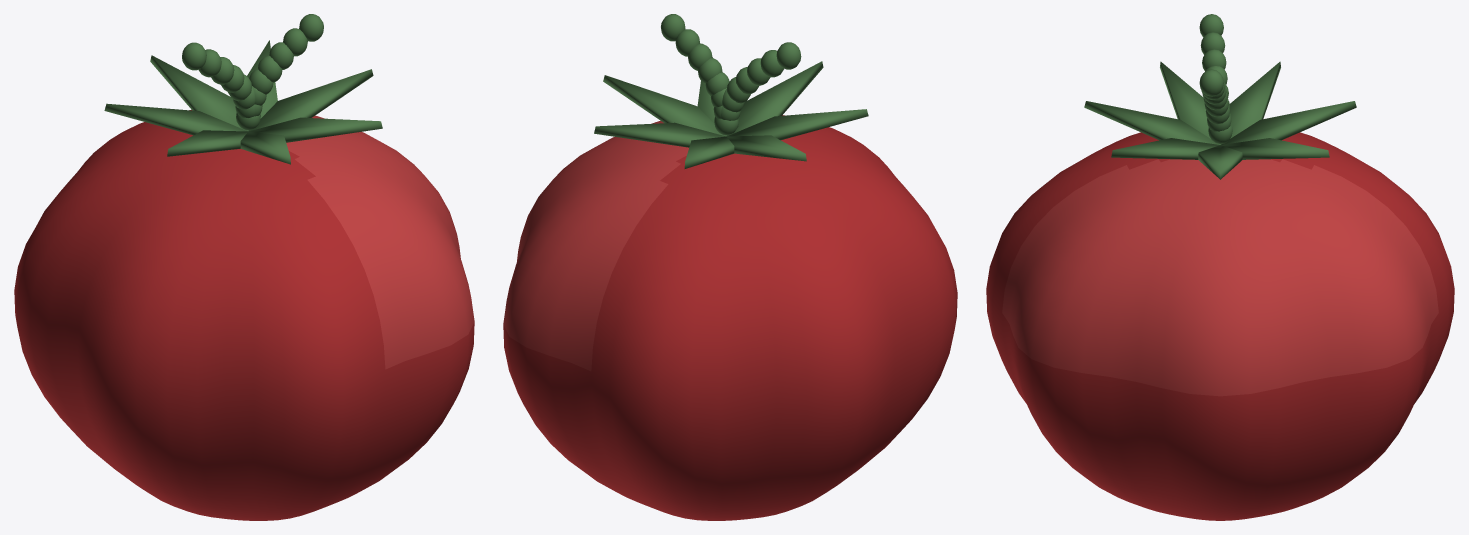
File: cocktail.glb
The picture shows the model from 3 angles, left to right: view 1: azimuth 30°, elevation 25°; view 2: azimuth 150°, elevation 25°; view 3: azimuth 270°, elevation 25°; orthographic projection. The views are drawn at different scales.
Parts seen in each view (by area): view 1: Cocktail Cocktail rose-red satin skin / Cocktail subtle sunw, Cocktail Cocktail forked vine green; view 2: Cocktail Cocktail rose-red satin skin / Cocktail subtle sunw, Cocktail Cocktail forked vine green; view 3: Cocktail Cocktail rose-red satin skin / Cocktail subtle sunw, Cocktail Cocktail forked vine green.
Boxes of the visible parts, left/top/right/bottom form: Cocktail Cocktail rose-red satin skin / Cocktail subtle sunw: left=14, top=110, right=474, bottom=520; Cocktail Cocktail forked vine green: left=104, top=14, right=382, bottom=164; Cocktail Cocktail rose-red satin skin / Cocktail subtle sunw: left=503, top=115, right=957, bottom=520; Cocktail Cocktail forked vine green: left=594, top=14, right=868, bottom=168; Cocktail Cocktail rose-red satin skin / Cocktail subtle sunw: left=986, top=132, right=1454, bottom=520; Cocktail Cocktail forked vine green: left=1084, top=14, right=1356, bottom=179.
Size of the model in its own units: 0.9947 by 1.16 by 1.07.
